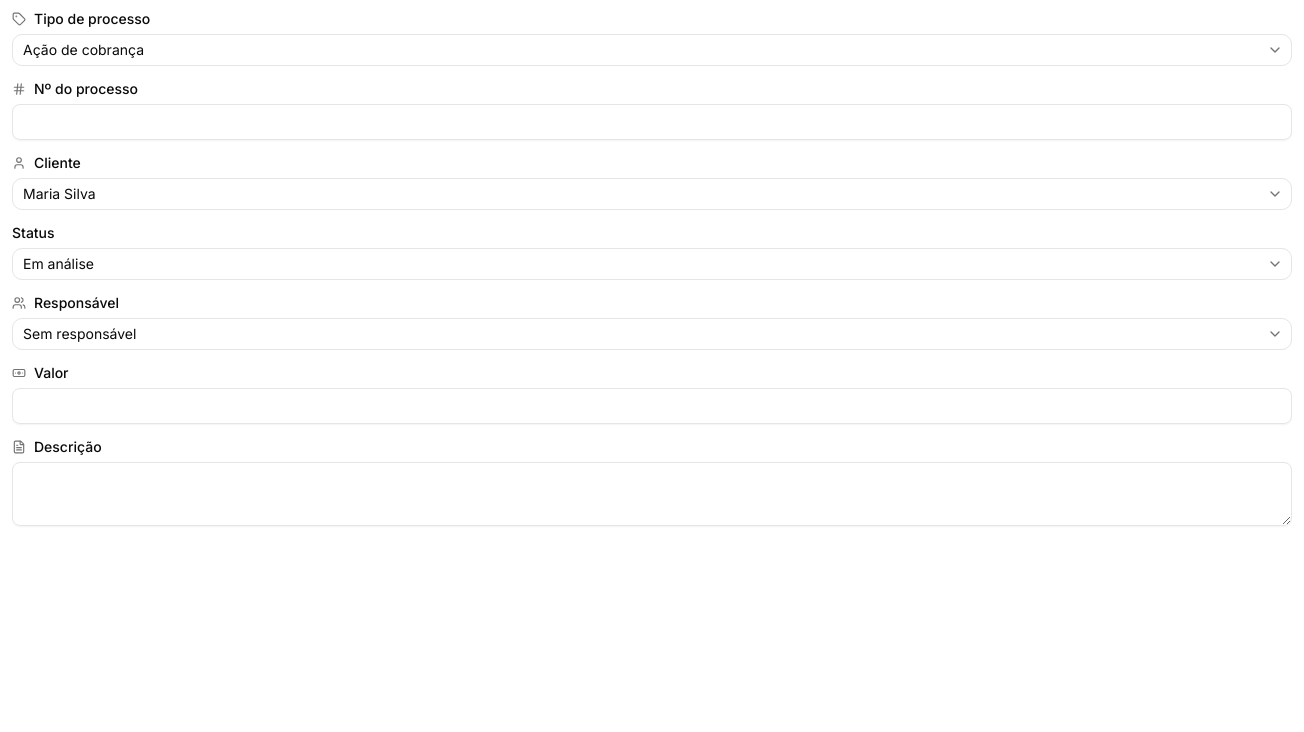
CasoDados › não oferece o atalho de criar tipo para o papel padrao
expect the text "Em análise" is shown: met, box top-left (23, 255), bottom-right (94, 272)
Click the dropdown named "Tipo de processo" at (84, 50), box top-left (12, 34), bottom-right (1292, 66)
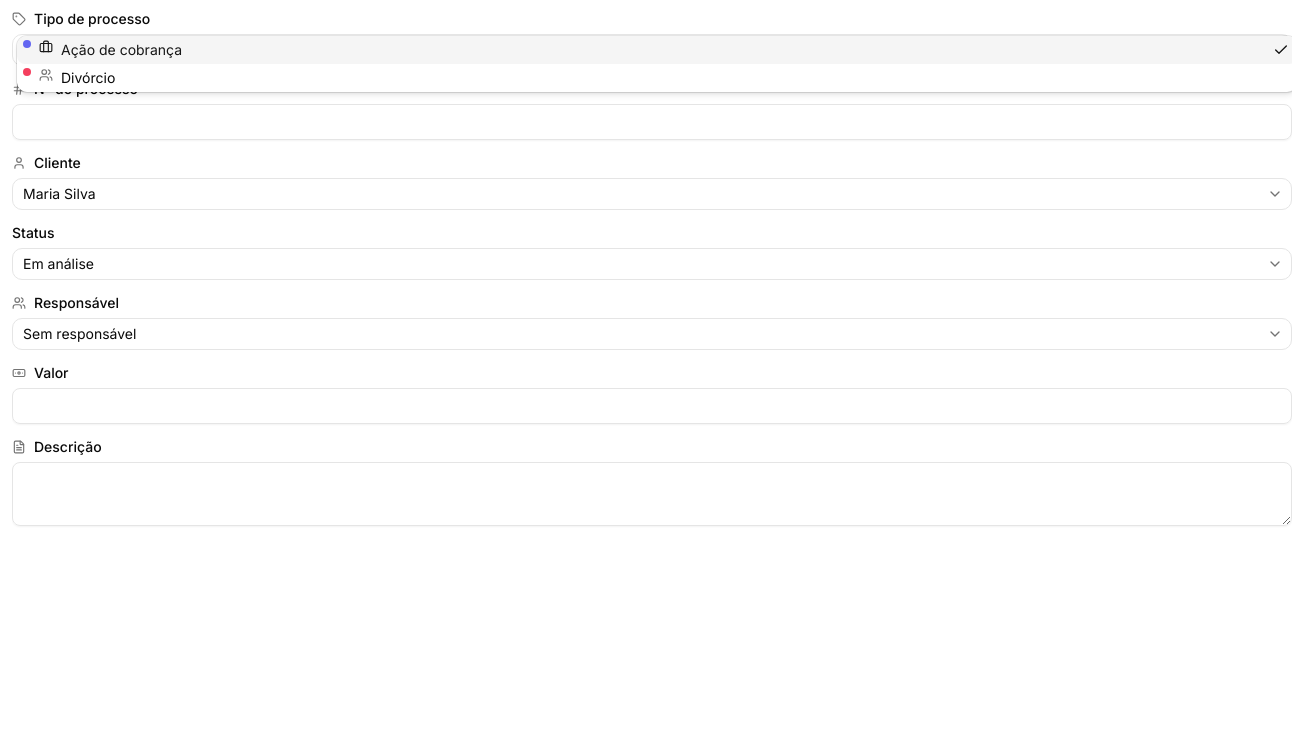
expect the option "Divórcio" is shown: met, box top-left (23, 68), bottom-right (115, 86)
